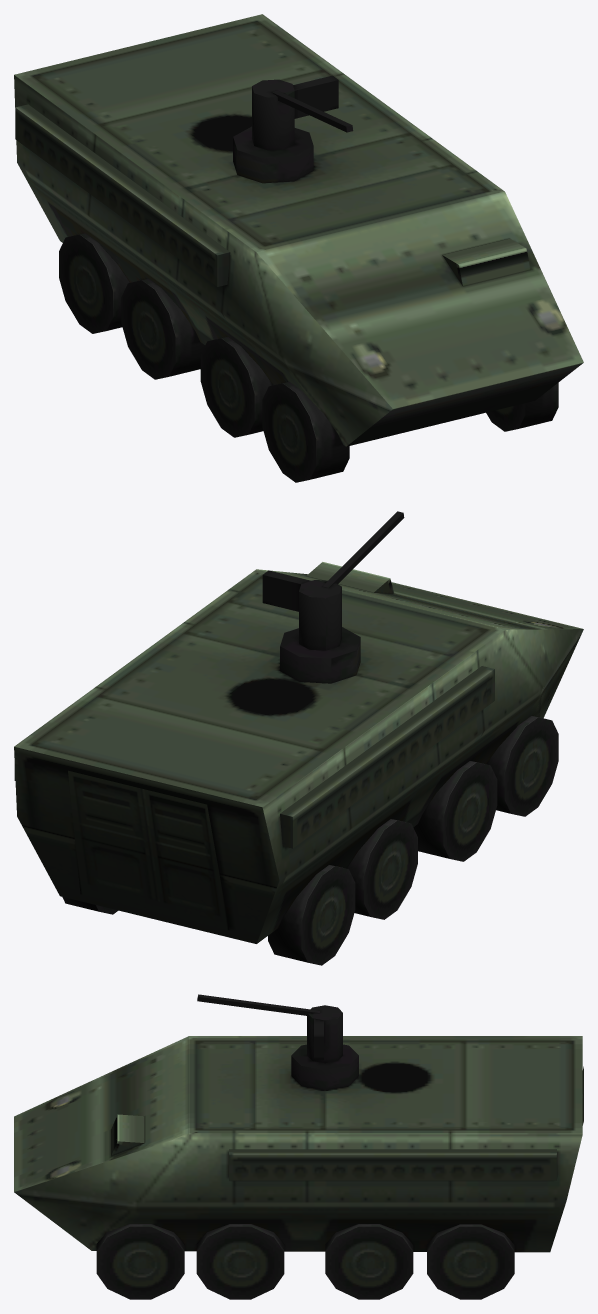
Rendered from Stryker_INF.DAE.
The picture shows the model from 3 angles, top to bottom: view 1: azimuth 30°, elevation 25°; view 2: azimuth 150°, elevation 25°; view 3: azimuth 270°, elevation 25°; orthographic projection. The views are drawn at different scales.
Parts seen in each view (by area): view 1: _1168_Stryker_INF; view 2: _1168_Stryker_INF; view 3: _1168_Stryker_INF.
Boxes of the visible parts, left/top/right/bottom form: _1168_Stryker_INF: left=14, top=14, right=583, bottom=482; _1168_Stryker_INF: left=14, top=511, right=583, bottom=965; _1168_Stryker_INF: left=14, top=994, right=583, bottom=1299.
Size of the model in its own units: 112 by 117 by 246.
Materials: 1 (1 with a texture image).
